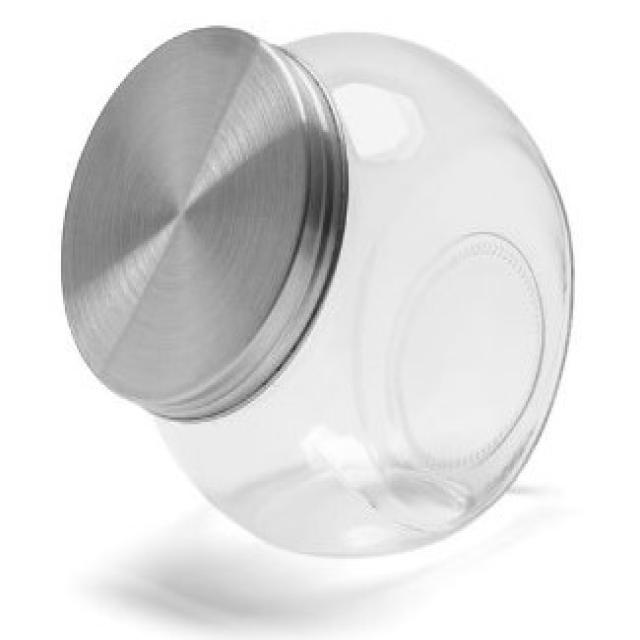electronic: (59, 23, 577, 560)
